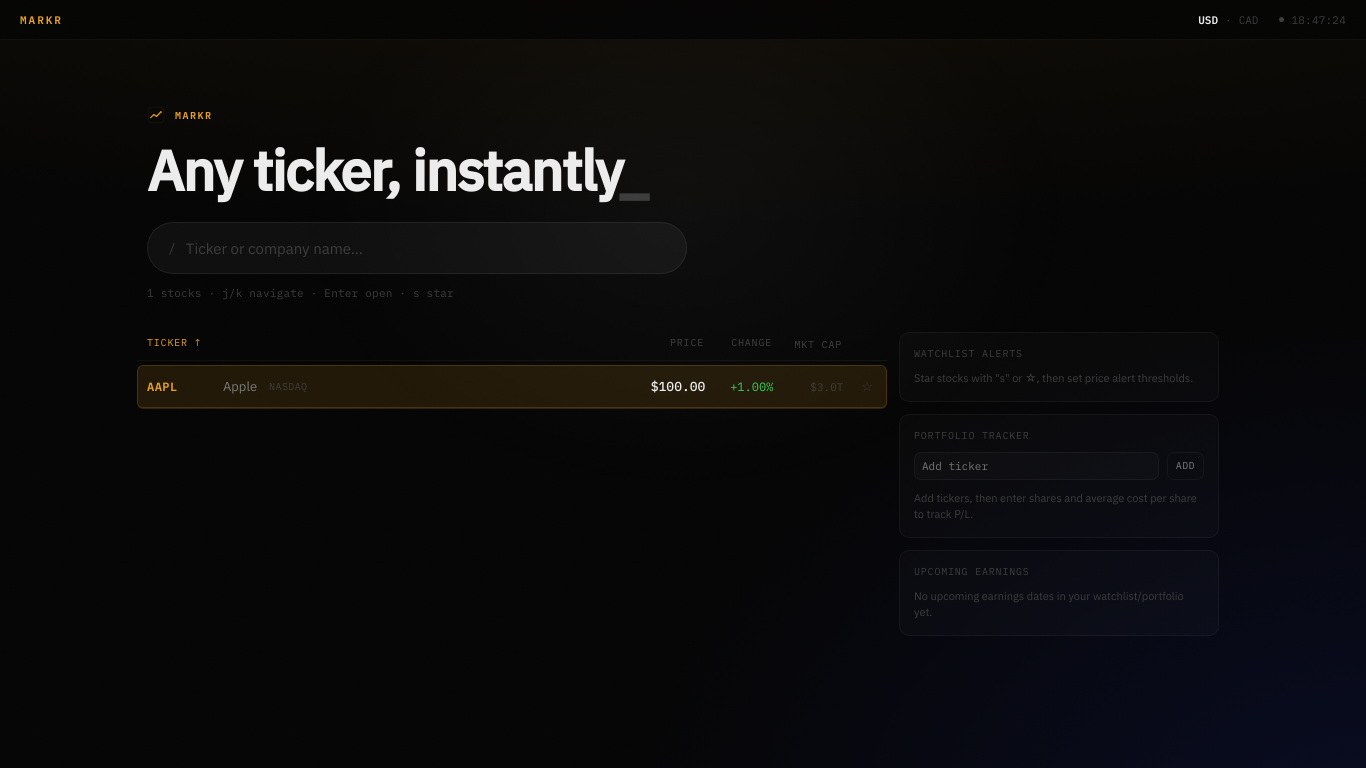
Scenario: a rate-limited section reports the retry delay
This screenshot has width=1366, height=768.
Click the text "AAPL". click: click(162, 387)
box: [147,380,178,394]
(page scrolled)
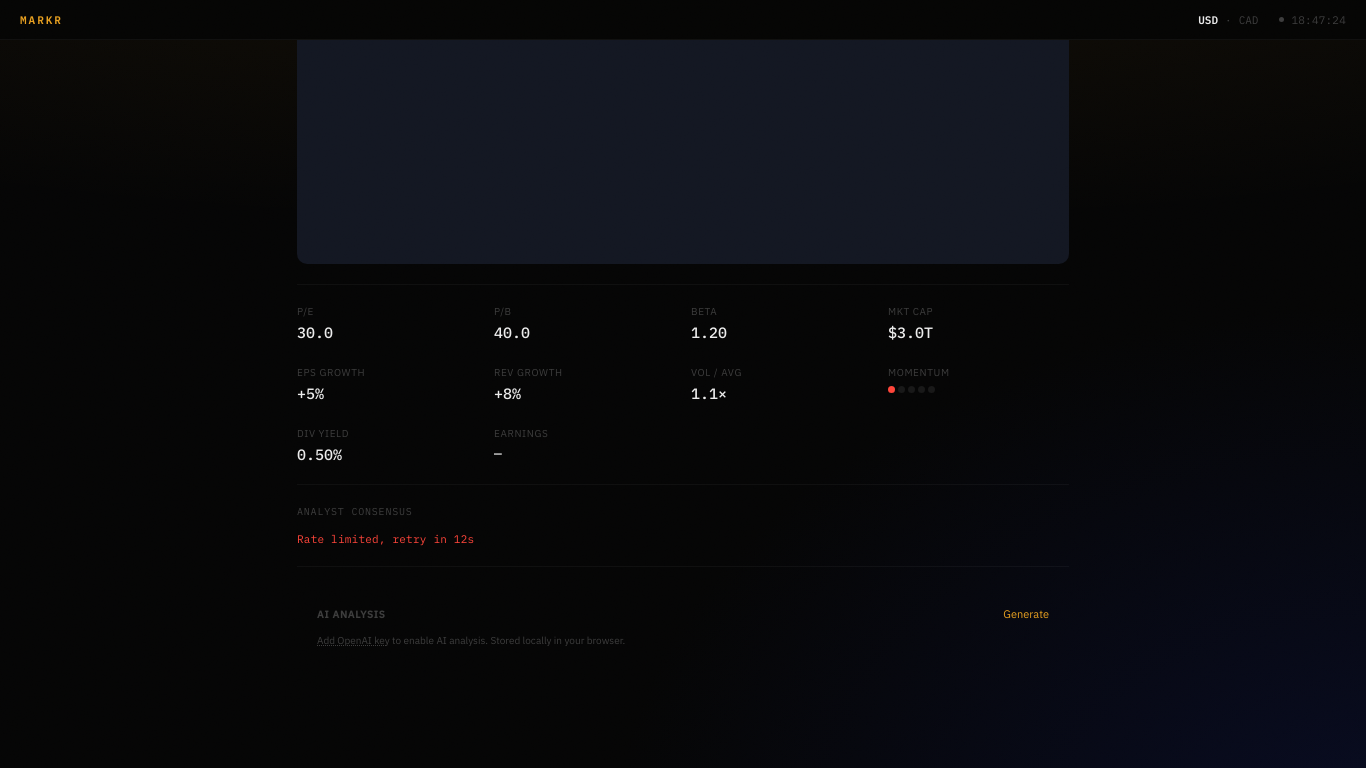
Check: the text "Rate limited, retry in 12s" is shown, box [297,532,474,546]
